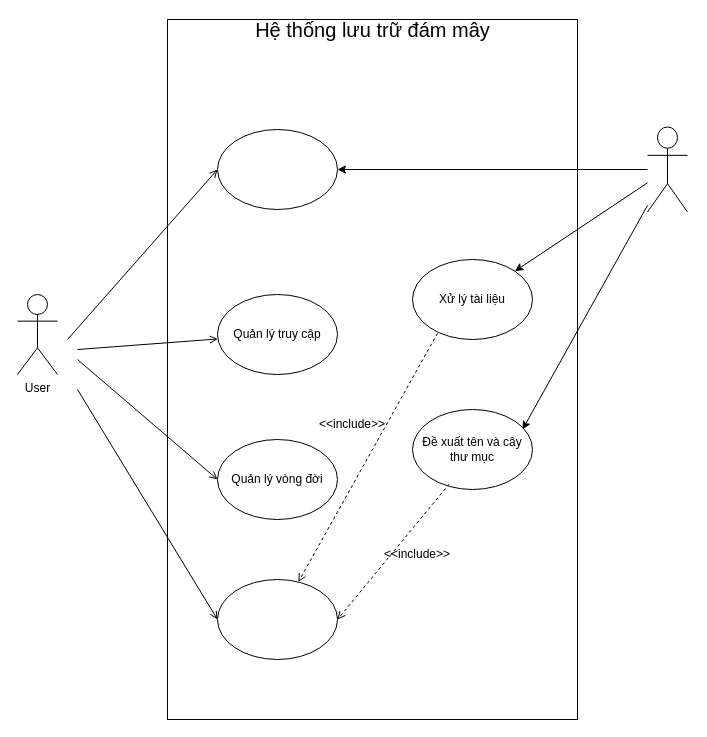
Some shapes in this 707 by 737 pixel diagram are drawn without their labels. The centre of each missing label's shape, as x and y in pixels:
AI agent: [667,169]
Cấu hình quyền của agent: [277,619]
Quản lý tập tin và thư mục: [277,169]
